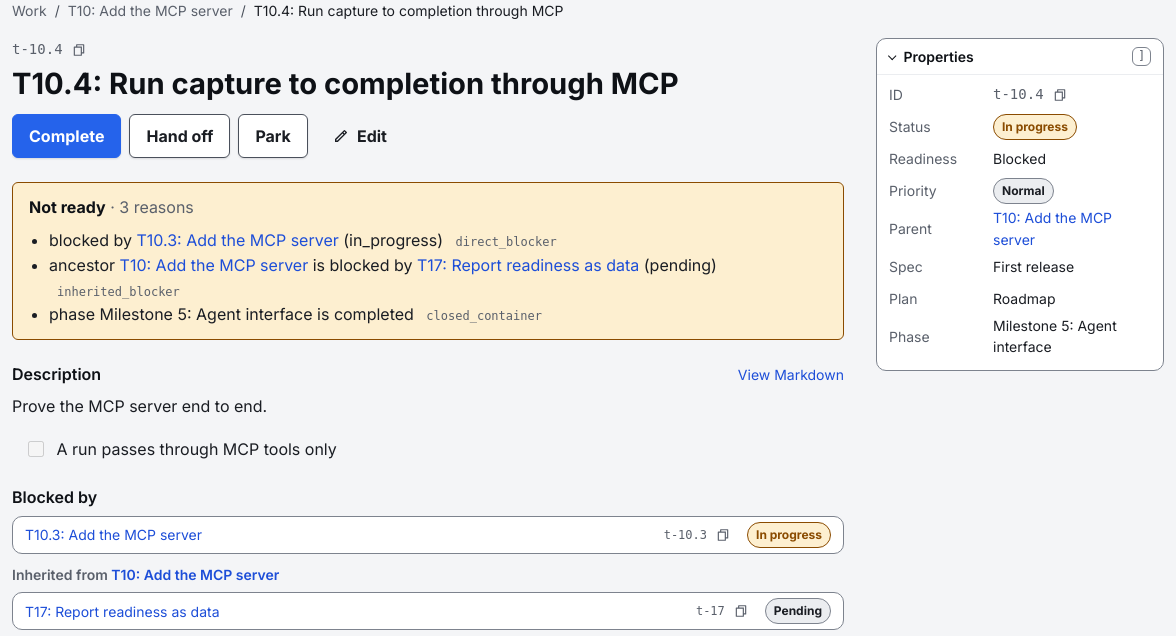
Test: TaskDetail changes › reports unsaved input in an open form
Click the button "Edit" at (360,136), box [316, 114, 404, 158]
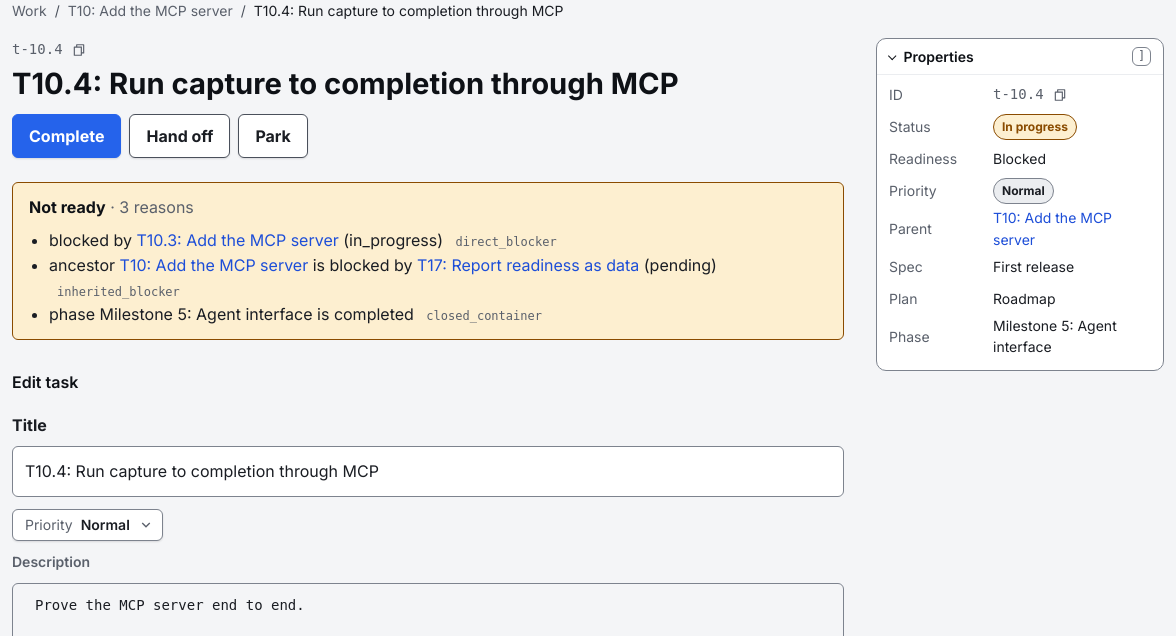
Replace the text in the field labelled "Title" with "Changed" at (428,471), box [12, 446, 844, 497]
(page scrolled)
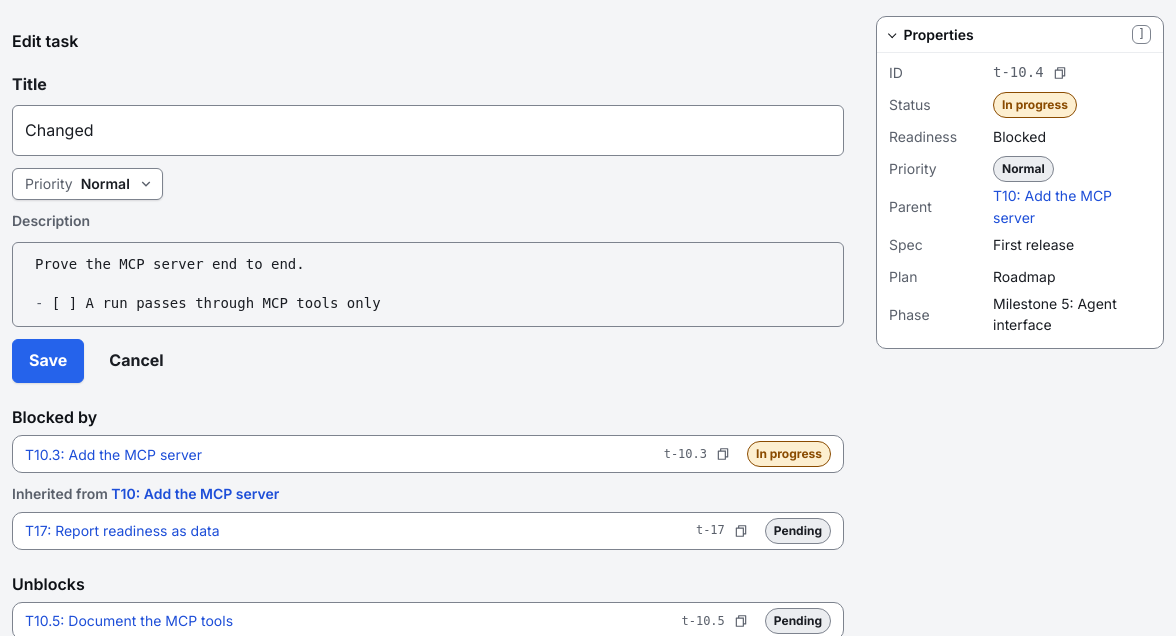
Click the button "Cancel" at (136,360), box [92, 338, 181, 382]
(page scrolled)
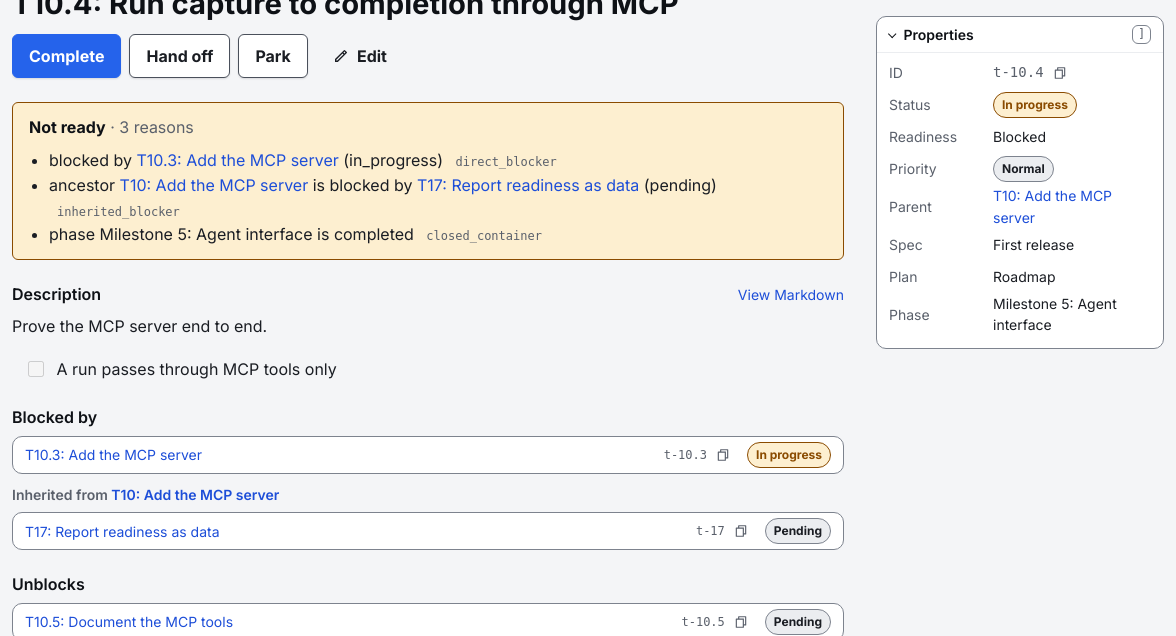
Click the button "Hand off" at (180,56), box [129, 34, 230, 78]
(page scrolled)
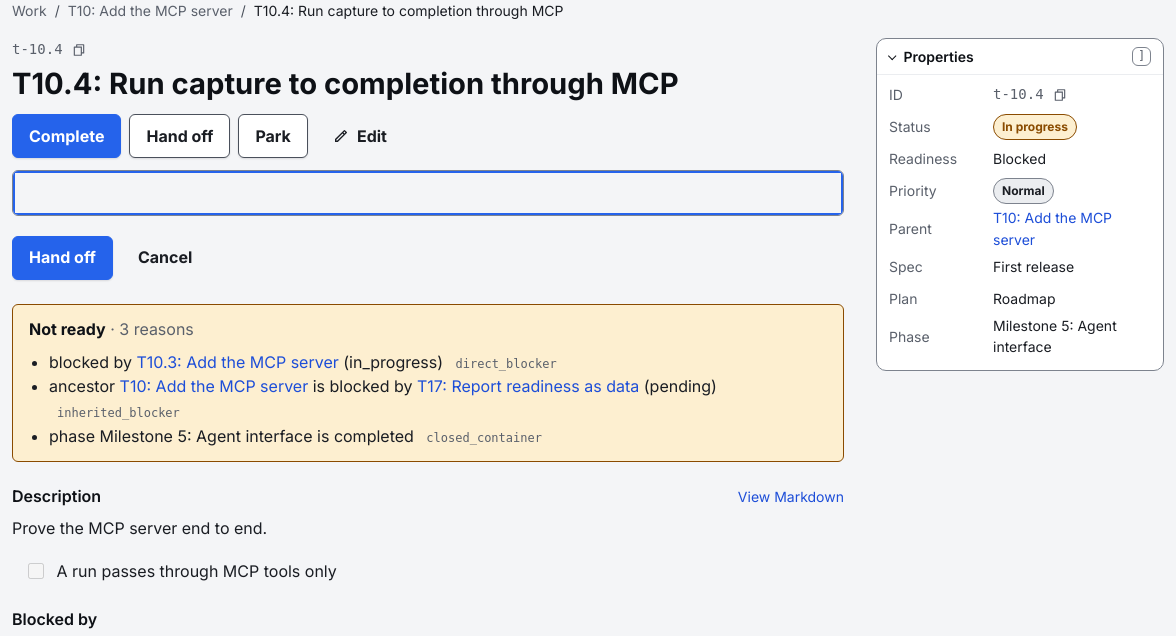
Expected: the form named "Hand off" is shown, [12, 170, 844, 280]
